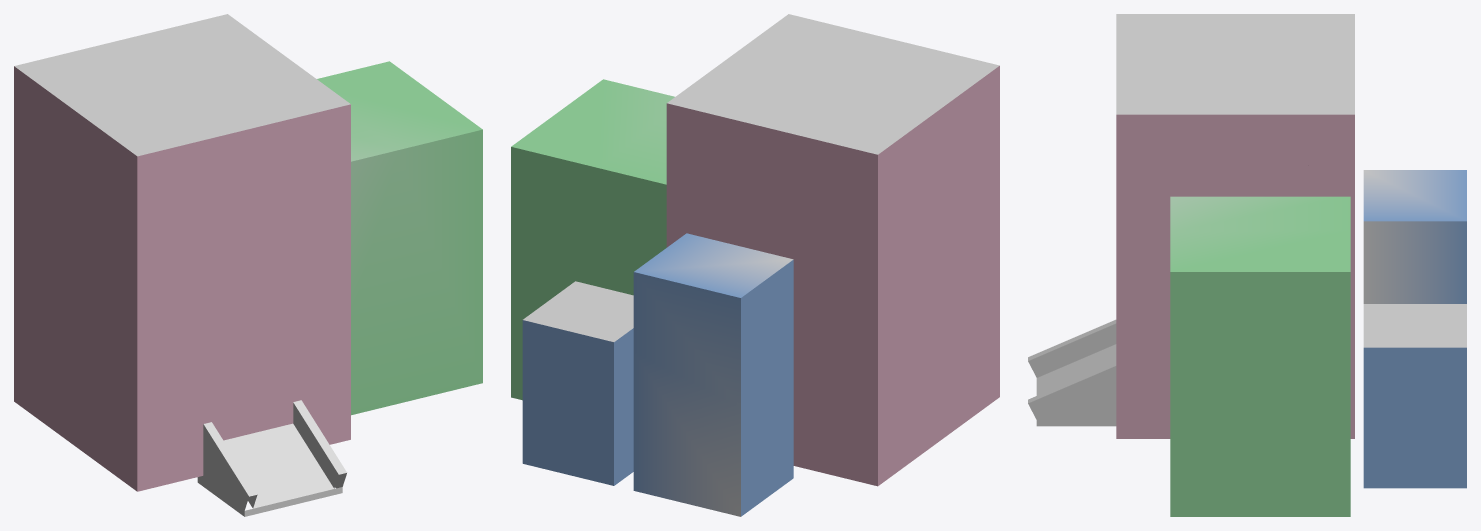
Rendered from building1.fbx.
The picture shows the model from 3 angles, left to right: view 1: azimuth 30°, elevation 25°; view 2: azimuth 150°, elevation 25°; view 3: azimuth 270°, elevation 25°; orthographic projection. The views are drawn at different scales.
Parts seen in each view (by area): view 1: Cube, Cube.002, Cube.001; view 2: Cube, Cube.002, Cube.003, Cube.001; view 3: Cube, Cube.001, Cube.002, Cube.003.
Boxes of the visible parts, x1,y1,x2,y2 form: Cube: (14,117,482,516); Cube.002: (14,14,350,203); Cube.001: (317,61,482,319); Cube: (511,112,999,516); Cube.002: (666,14,999,233); Cube.003: (633,233,793,407); Cube.001: (511,79,674,335); Cube: (1028,156,1466,516); Cube.001: (1170,230,1350,456); Cube.002: (1116,14,1354,202); Cube.003: (1363,170,1466,303).
Bounding box in the file's own units: 349 × 310 × 368.
